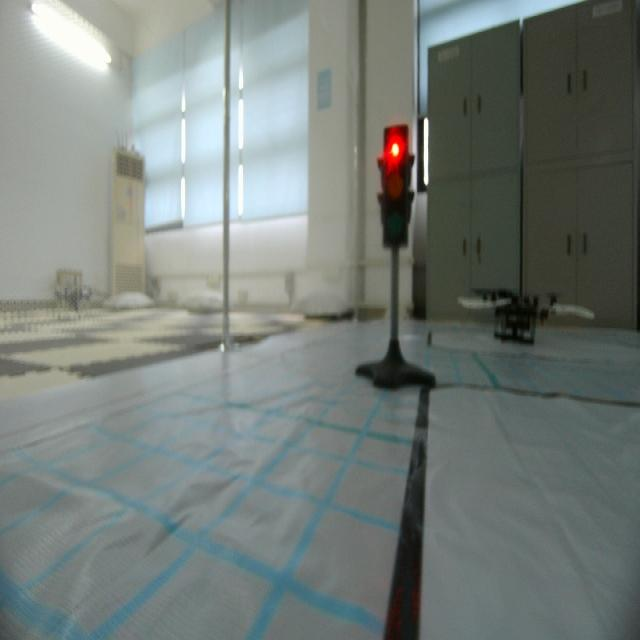red: (375, 117, 417, 257)
